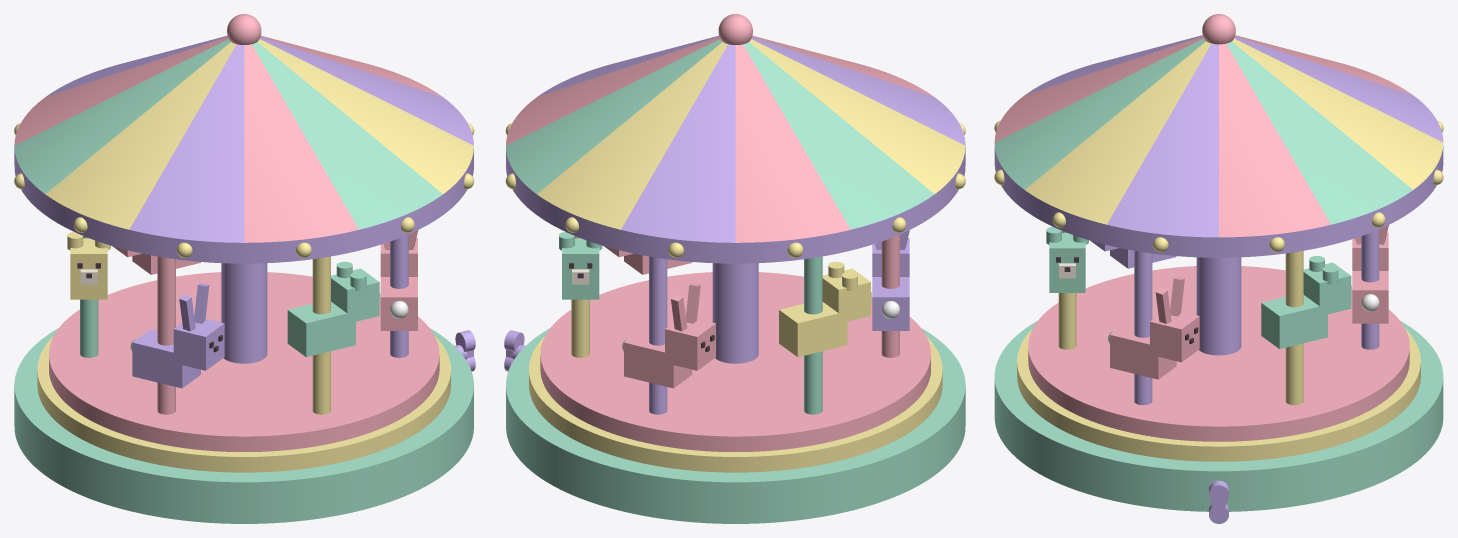
The model's file is carousel.glb.
3 renders of one model, left to right at view 1: azimuth 30°, elevation 25°; view 2: azimuth 150°, elevation 25°; view 3: azimuth 270°, elevation 25°, orthographic. The views are drawn at different scales.
Parts seen in each view (by area): view 1: carousel (×4); view 2: carousel (×4); view 3: carousel (×4).
Boxes of the visible parts, <box> form: carousel (×4): <box>14,14,475,523</box>; carousel (×4): <box>504,14,965,523</box>; carousel (×4): <box>994,14,1443,523</box>.
Size of the model in its own units: 0.0855 by 0.079 by 0.0801.
